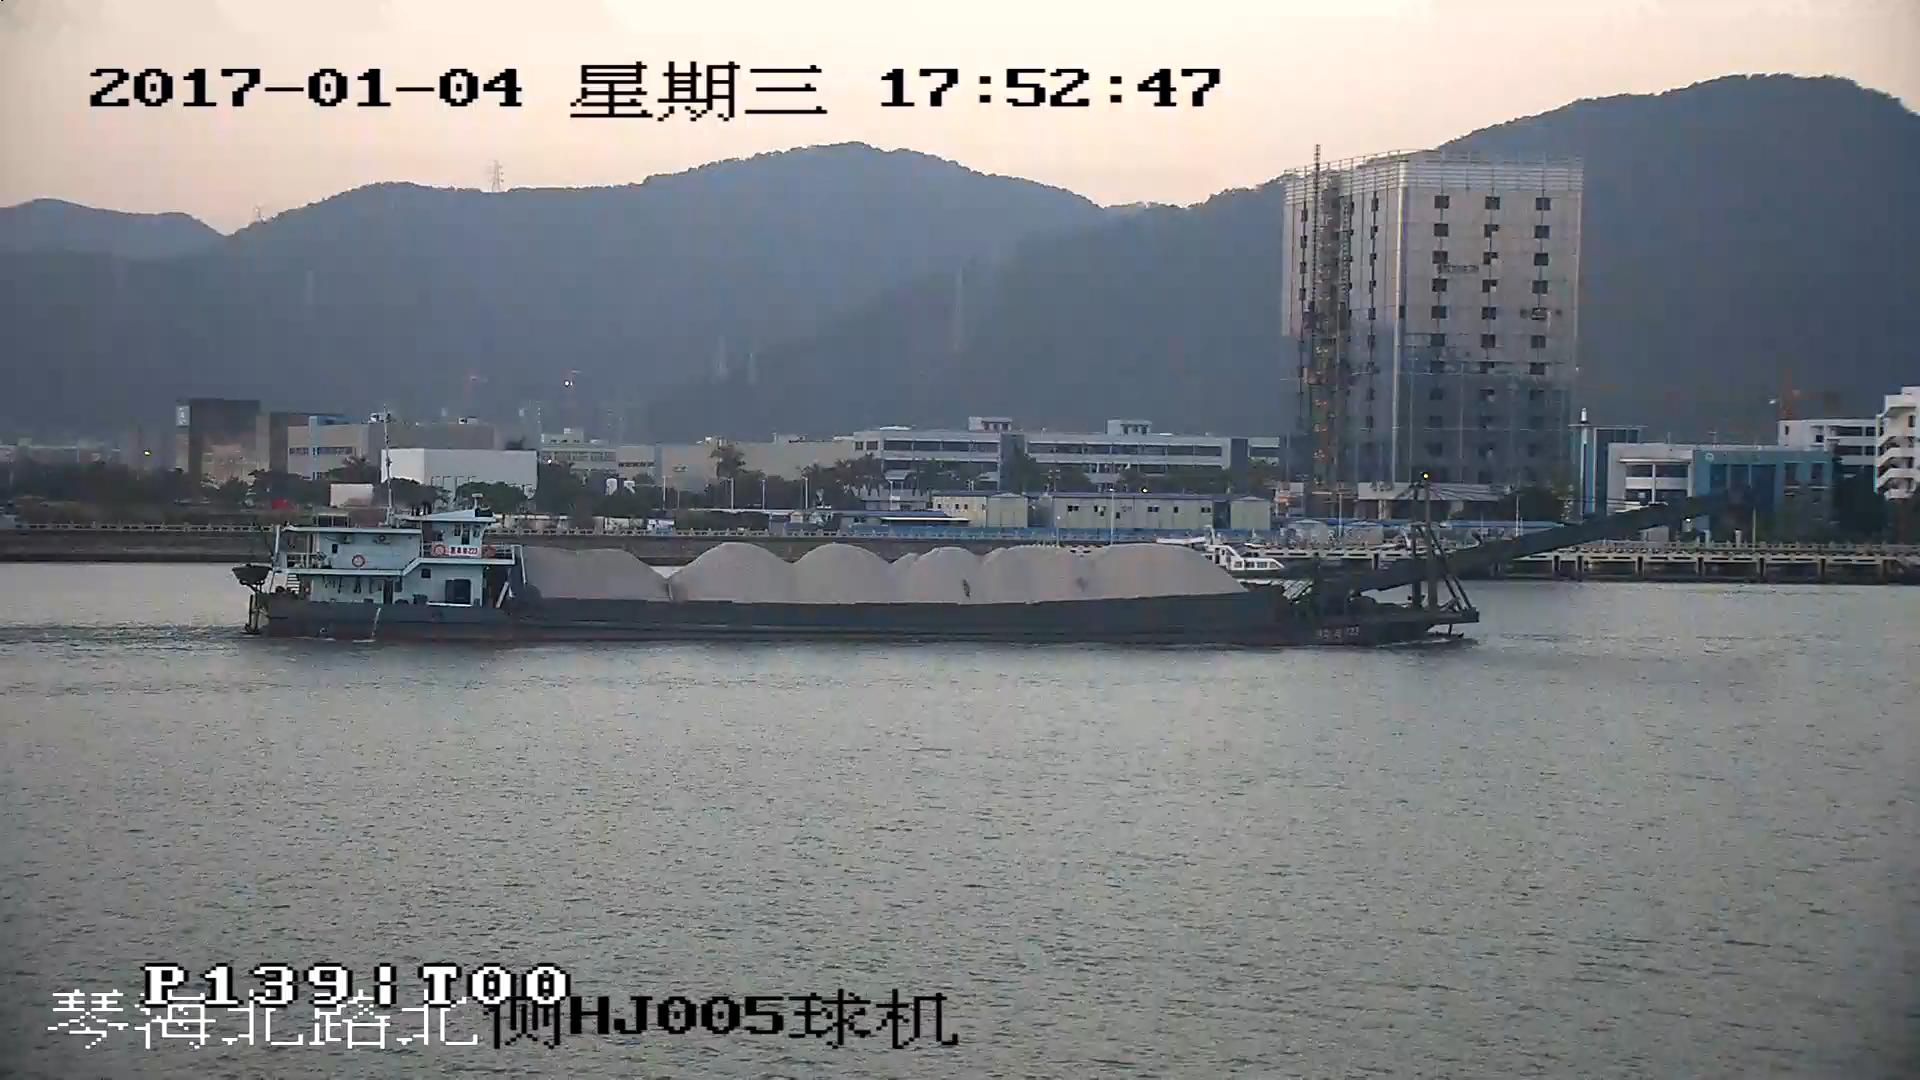ore carrier: (242, 495, 1713, 651)
